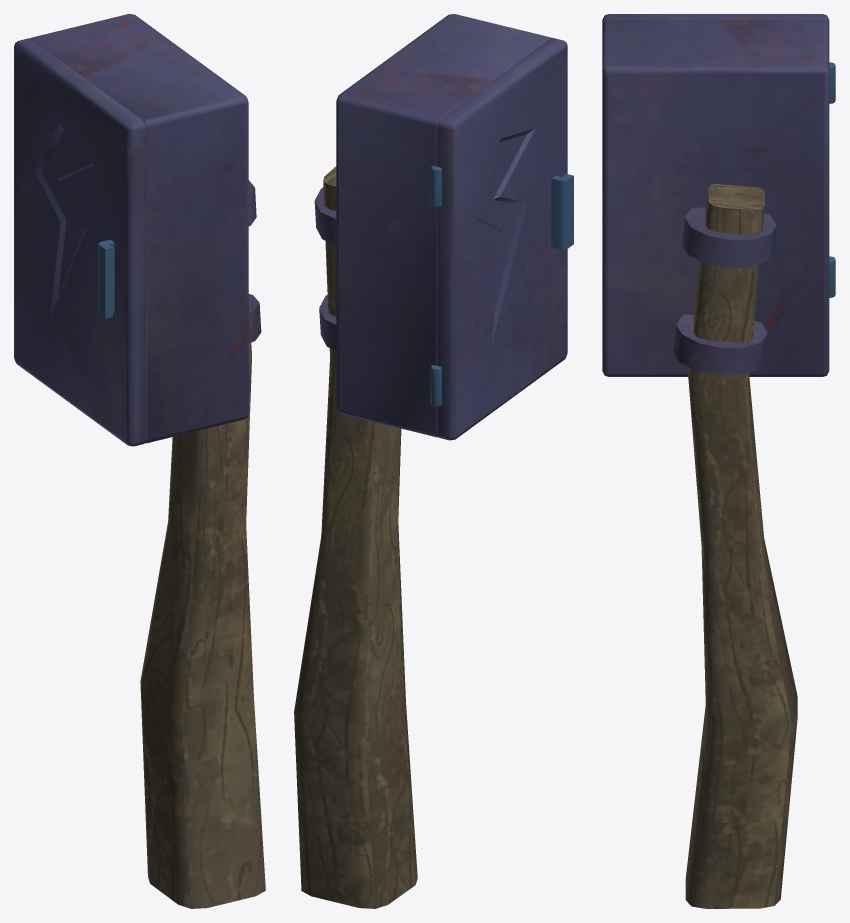
File: Electric_Box.fbx
The picture shows the model from 3 angles, left to right: view 1: azimuth 30°, elevation 25°; view 2: azimuth 150°, elevation 25°; view 3: azimuth 270°, elevation 25°; orthographic projection. The views are drawn at different scales.
Parts seen in each view (by area): view 1: Electric_Box; view 2: Electric_Box; view 3: Electric_Box.
Boxes of the visible parts, <box> form: Electric_Box: <box>14,14,265,908</box>; Electric_Box: <box>294,14,573,908</box>; Electric_Box: <box>602,14,835,908</box>.
Size of the model in its own units: 46.65 by 186 by 48.55.
